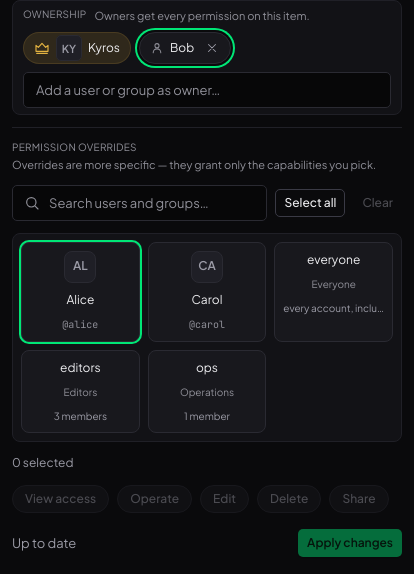
ResourceAccessFields › keeps a co-owner badge in the tab order and crowns it with Enter
The width and height of the screenshot is (414, 574).
What coordinates should you click on to do the following:
click the button with aria-label "Make Bob the owner"
I would click on:
 (172, 48)
Its box is [150,39,194,57].
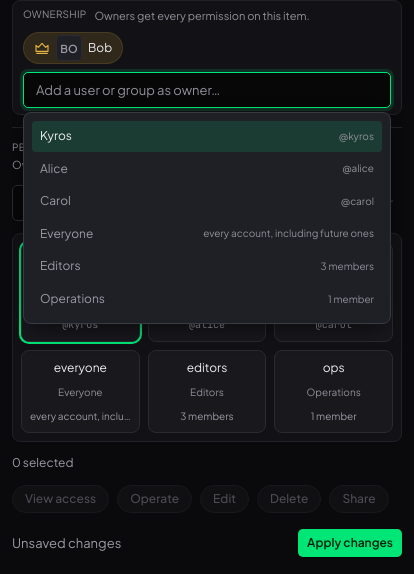
Result: the element with test id "owner-crown" shows "Bob" at [88,40,112,55]
